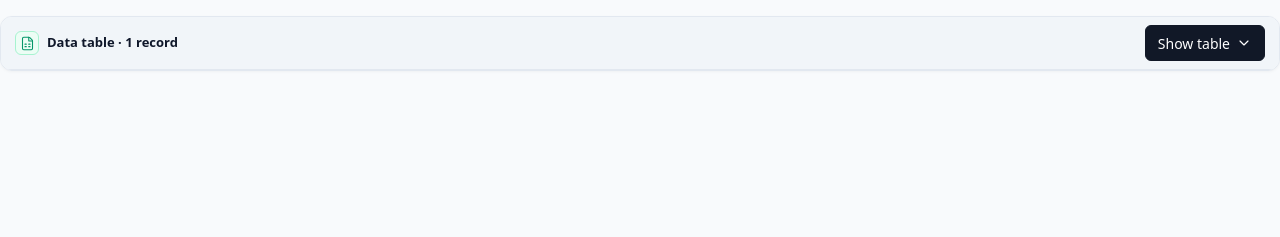
Test: InteractiveTable › renders row-level Preview and Open buttons when rows reference files
Later steps or results of the test are not shown.
Click the text "Show table": (1194, 43) x1=1158 y1=32 x2=1230 y2=54
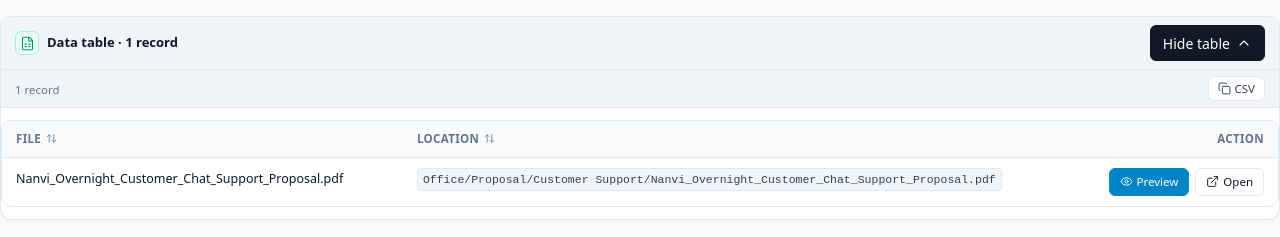
Check: the button "Open" is shown, box x1=1195 y1=168 x2=1264 y2=196
